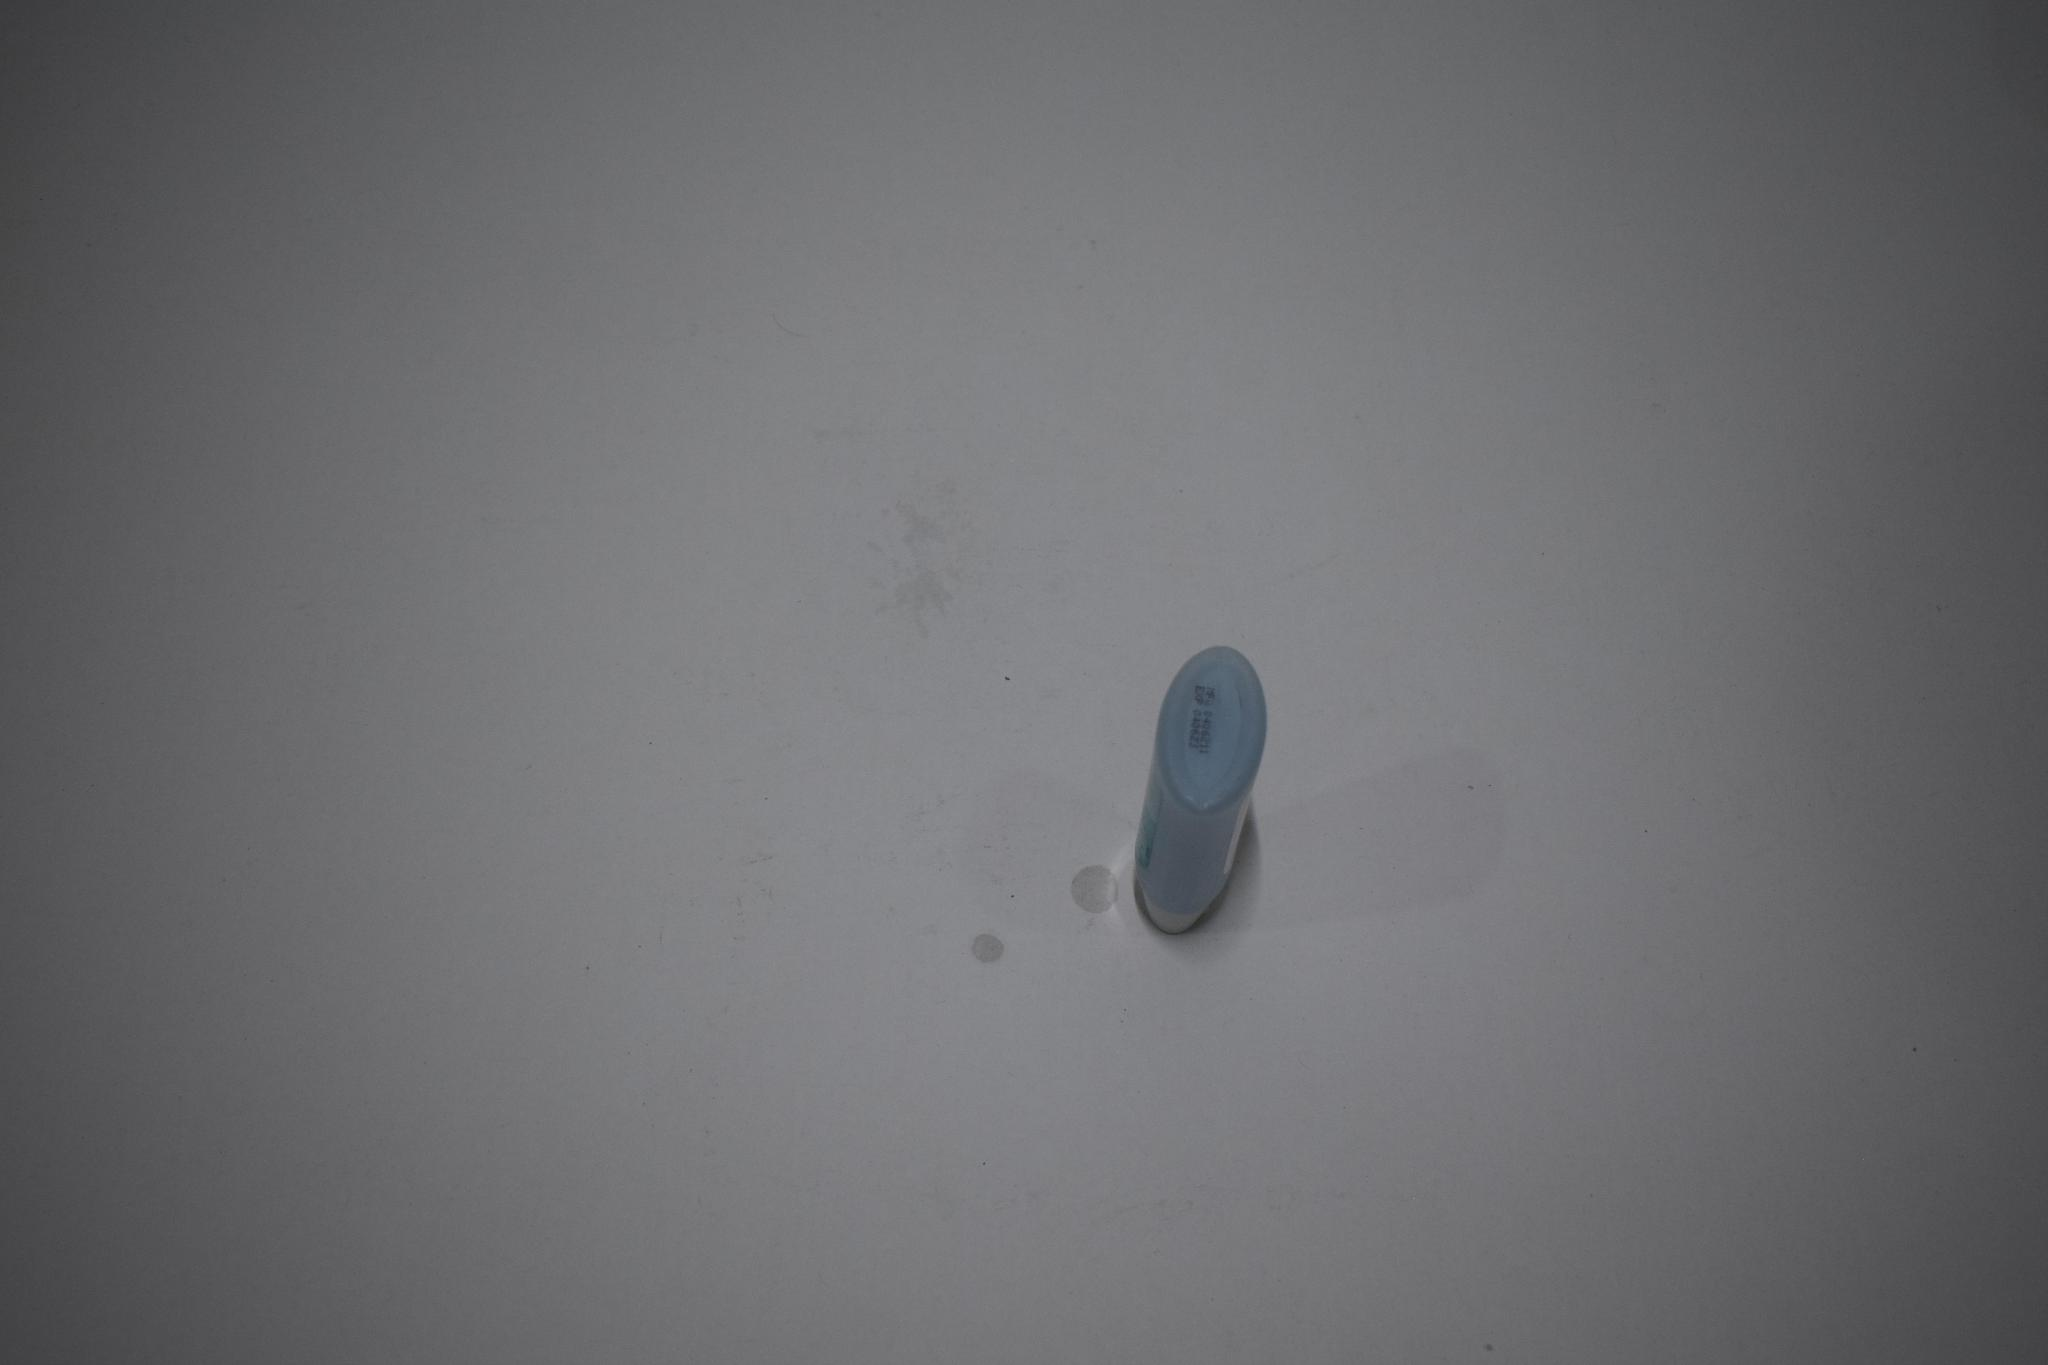bottle: (1122, 626, 1285, 952)
